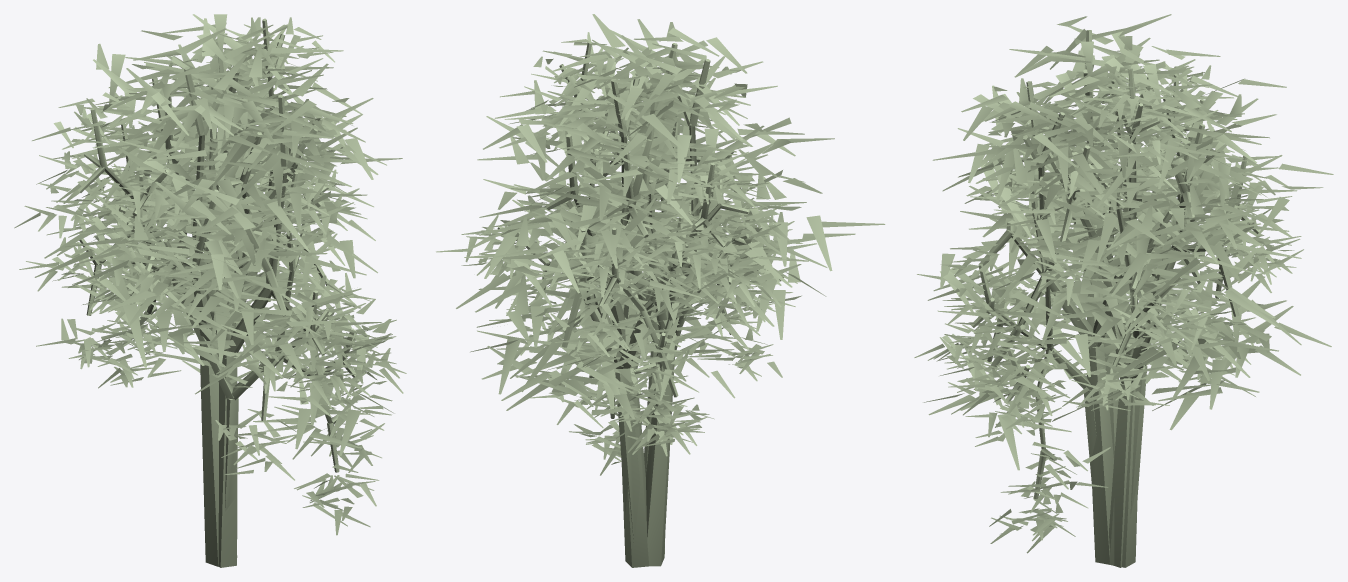
File: tree_willow_peach.glb
The picture shows the model from 3 angles, left to right: view 1: azimuth 30°, elevation 25°; view 2: azimuth 150°, elevation 25°; view 3: azimuth 270°, elevation 25°; orthographic projection.
Parts seen in each view (by area): view 1: tier1_foliage, tier2_foliage, tier0_foliage, tier1_bark, tier2_bark, tier0_bark; view 2: tier1_foliage, tier2_foliage, tier0_foliage, tier1_bark, tier2_bark, tier0_bark; view 3: tier1_foliage, tier2_foliage, tier0_foliage, tier1_bark, tier2_bark, tier0_bark.
Part boxes in pixels (x1,y1,x2,y2): tier1_foliage: [34, 14, 402, 455]; tier2_foliage: [14, 17, 406, 535]; tier0_foliage: [65, 14, 356, 367]; tier1_bark: [128, 42, 333, 567]; tier2_bark: [78, 18, 359, 511]; tier0_bark: [161, 78, 248, 566]; tier1_foliage: [477, 19, 827, 418]; tier2_foliage: [436, 32, 802, 475]; tier0_foliage: [456, 14, 885, 413]; tier1_bark: [546, 43, 762, 567]; tier2_bark: [497, 41, 752, 545]; tier0_bark: [562, 91, 748, 566]; tier1_foliage: [923, 14, 1333, 470]; tier2_foliage: [914, 46, 1303, 553]; tier0_foliage: [960, 36, 1301, 430]; tier1_bark: [978, 30, 1240, 567]; tier2_bark: [971, 66, 1259, 517]; tier0_bark: [1051, 79, 1179, 567].
Size of the model in its own units: 0.6885 by 1 by 0.7378.
